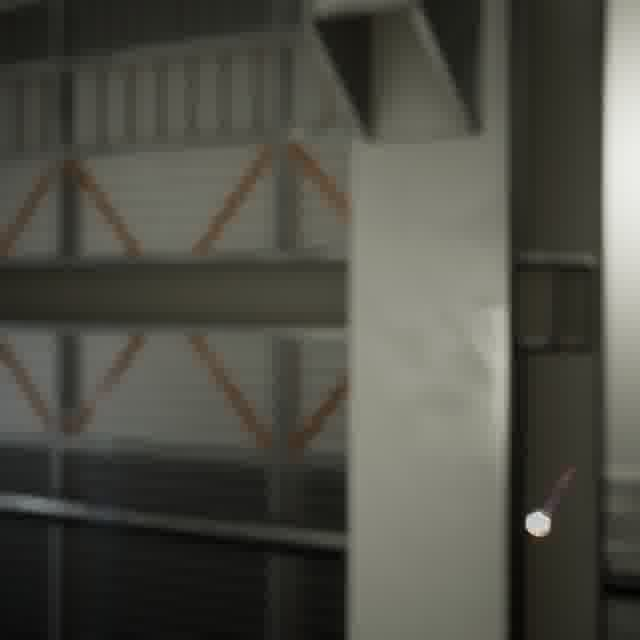bolt: (521, 461, 580, 541)
